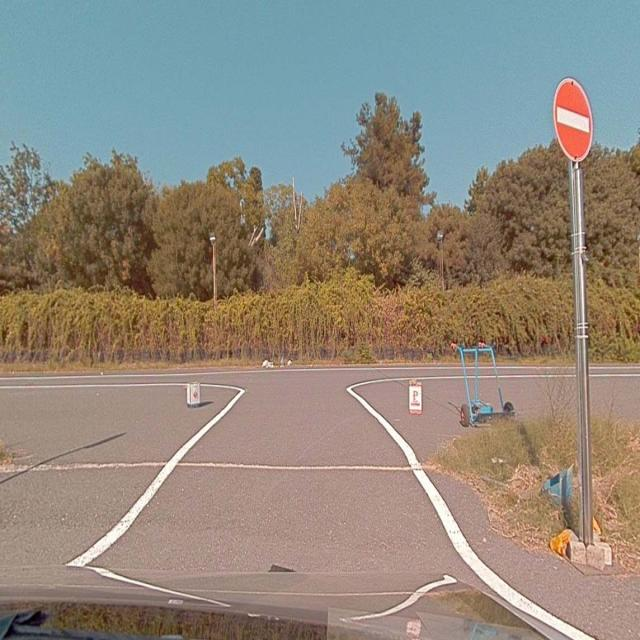girisyok: (554, 78, 592, 158)
